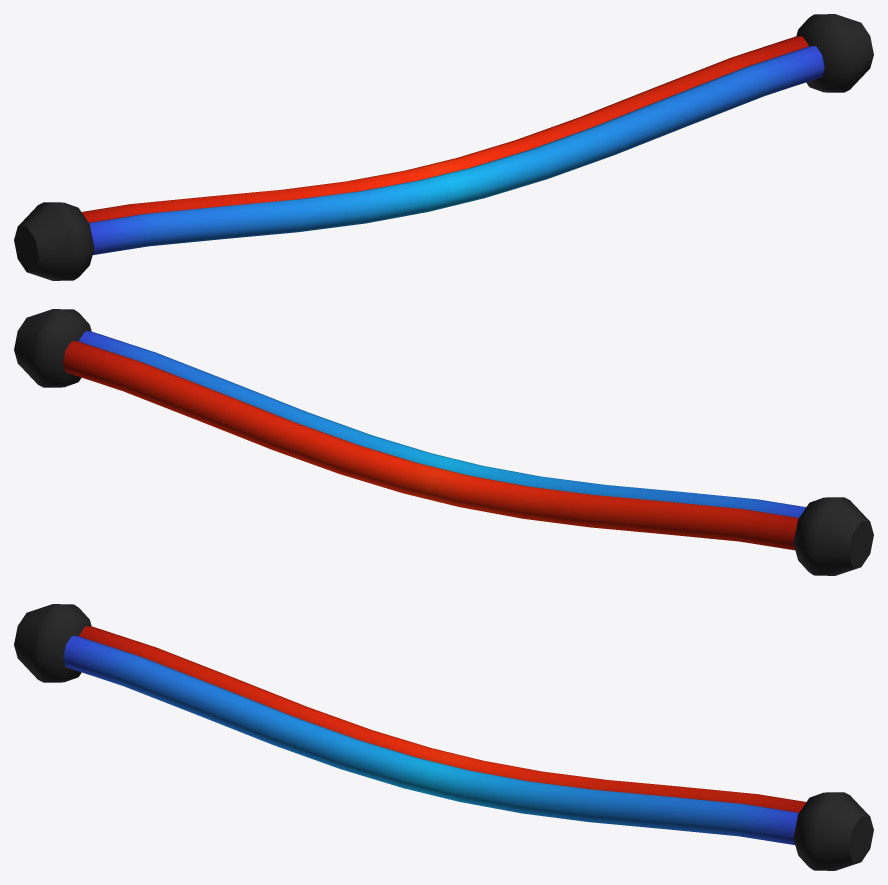
Rendered from Cable_01.fbx.
3 renders of one model, top to bottom at view 1: azimuth 30°, elevation 25°; view 2: azimuth 150°, elevation 25°; view 3: azimuth 330°, elevation 25°, orthographic.
Parts seen in each view (by area): view 1: Cable_01; view 2: Cable_01; view 3: Cable_01.
Part boxes in pixels (box(x1,y1,x2,y2)): Cable_01: box(14, 14, 873, 280); Cable_01: box(14, 309, 873, 575); Cable_01: box(14, 604, 873, 870).
Bounding box in the file's own units: 213 × 22.42 × 19.15.
